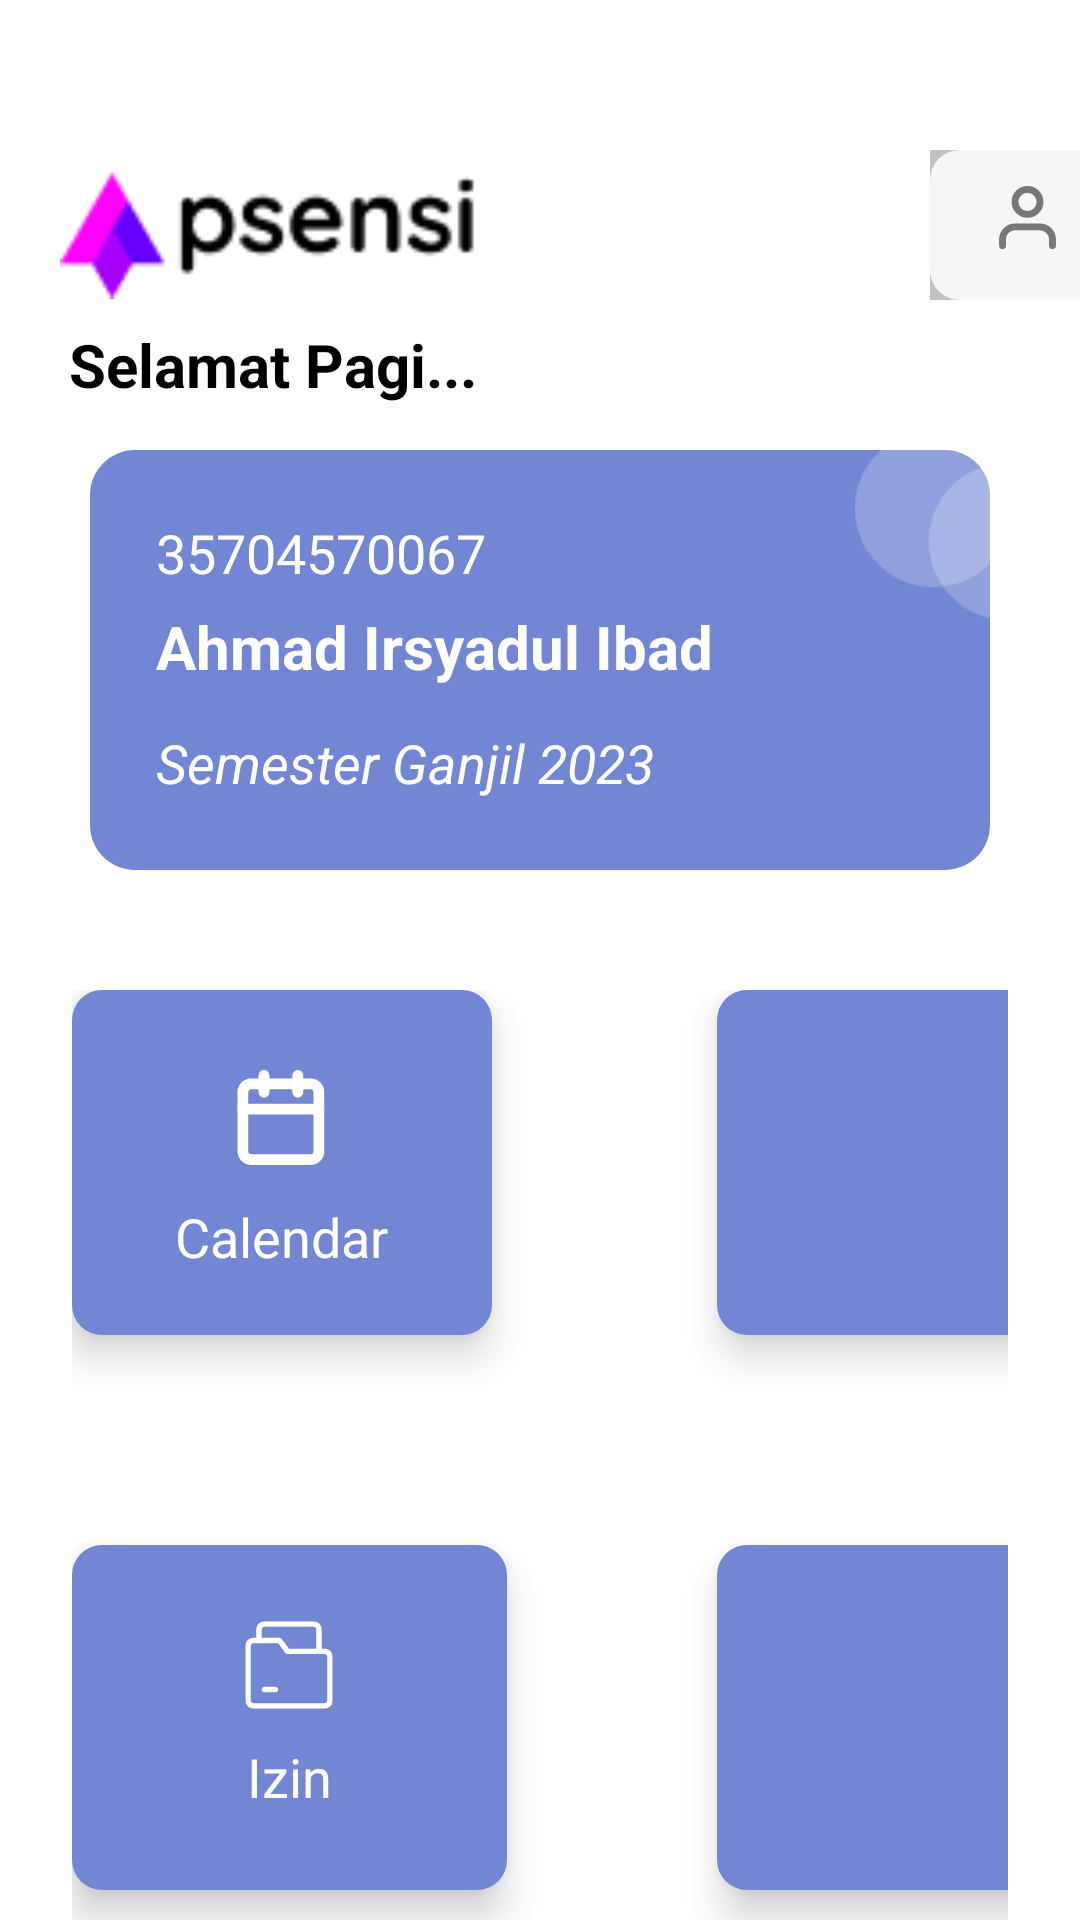

Where icons sit on this 1080 × 1920 app screen, as (x1, y1, x2, y2):
user: (999, 186, 1056, 249)
